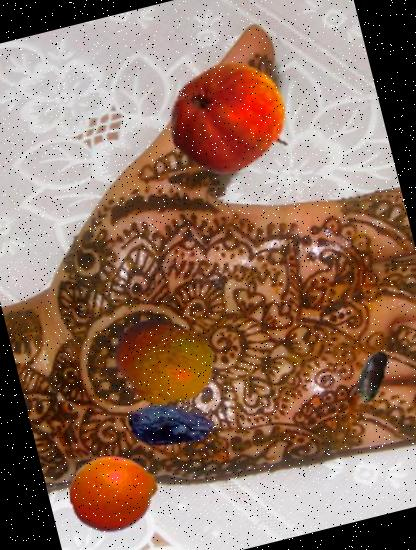Dates: (120, 375, 224, 478)
Eggplant: (338, 342, 406, 412)
Mandarine: (102, 302, 224, 424)
Pear: (159, 46, 306, 194)
Tangelo: (61, 440, 168, 548)
